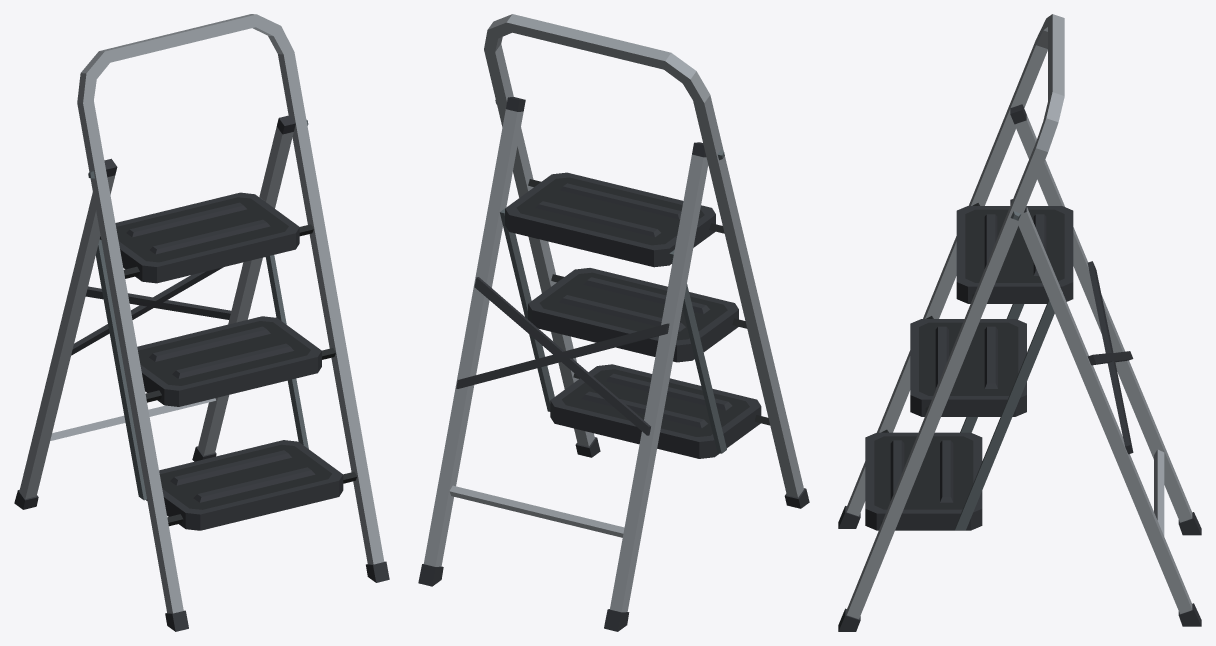
The model's file is SM_Prop_Warehouse_Step_Ladder_01.obj.
The picture shows the model from 3 angles, left to right: view 1: azimuth 30°, elevation 25°; view 2: azimuth 150°, elevation 25°; view 3: azimuth 270°, elevation 25°; orthographic projection. The views are drawn at different scales.
Visible parts, largest first — view 1: SM_Prop_Warehouse_Step_Ladder_01_0; view 2: SM_Prop_Warehouse_Step_Ladder_01_0; view 3: SM_Prop_Warehouse_Step_Ladder_01_0.
Boxes of the visible parts, box(x1,y1,x2,y2) form: SM_Prop_Warehouse_Step_Ladder_01_0: box(14, 14, 389, 631); SM_Prop_Warehouse_Step_Ladder_01_0: box(418, 14, 809, 631); SM_Prop_Warehouse_Step_Ladder_01_0: box(838, 14, 1201, 631).
Bounding box in the file's own units: 0.5878 × 1.29 × 0.8086.
Materials: 1 (1 with a texture image).
